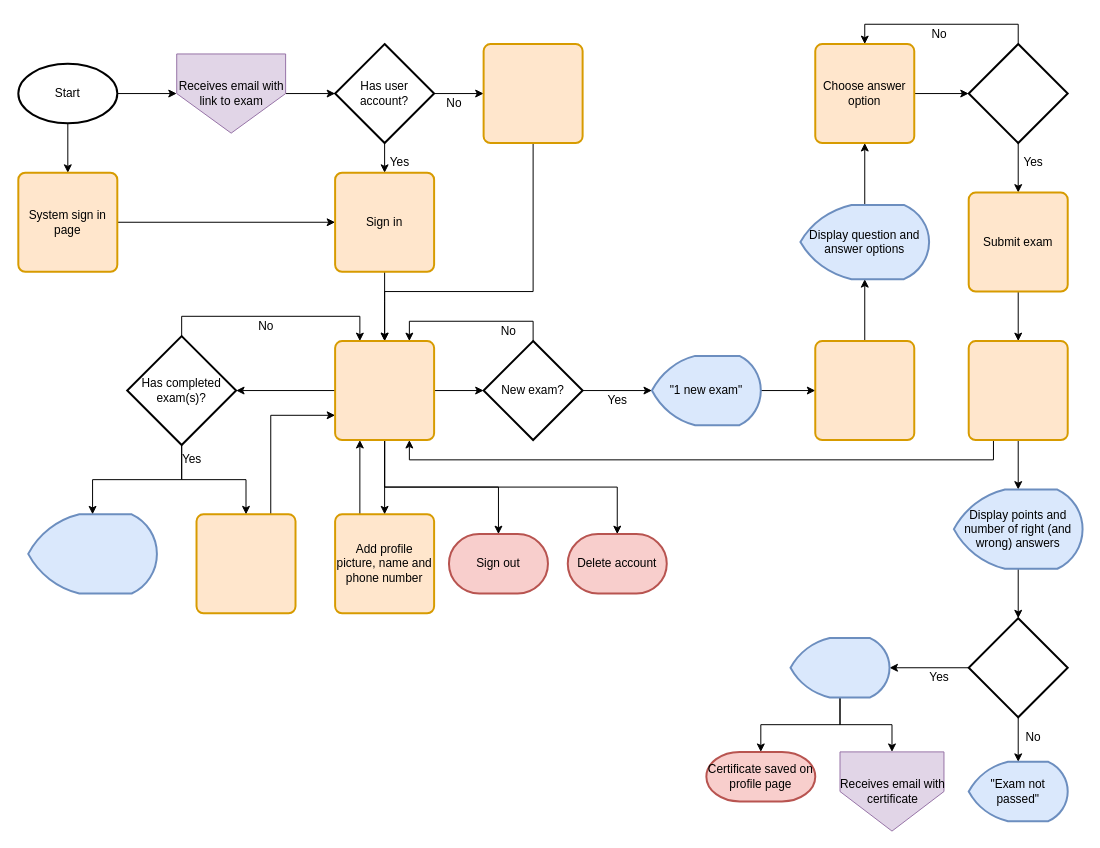
This 1100x848 diagram has some shape labels left out. The centre of each missing label's shape, as x and y in pixels:
"Exam passed": (839,667)
Create user account: (532,93)
Display exam result(s) and certificate(s): (92,553)
Download certificate(s) as PDF: (245,563)
Exam passed?: (1017,667)
Last question?: (1017,93)
Profile page: (384,390)
Results page: (1017,390)
Start exam: (864,390)
